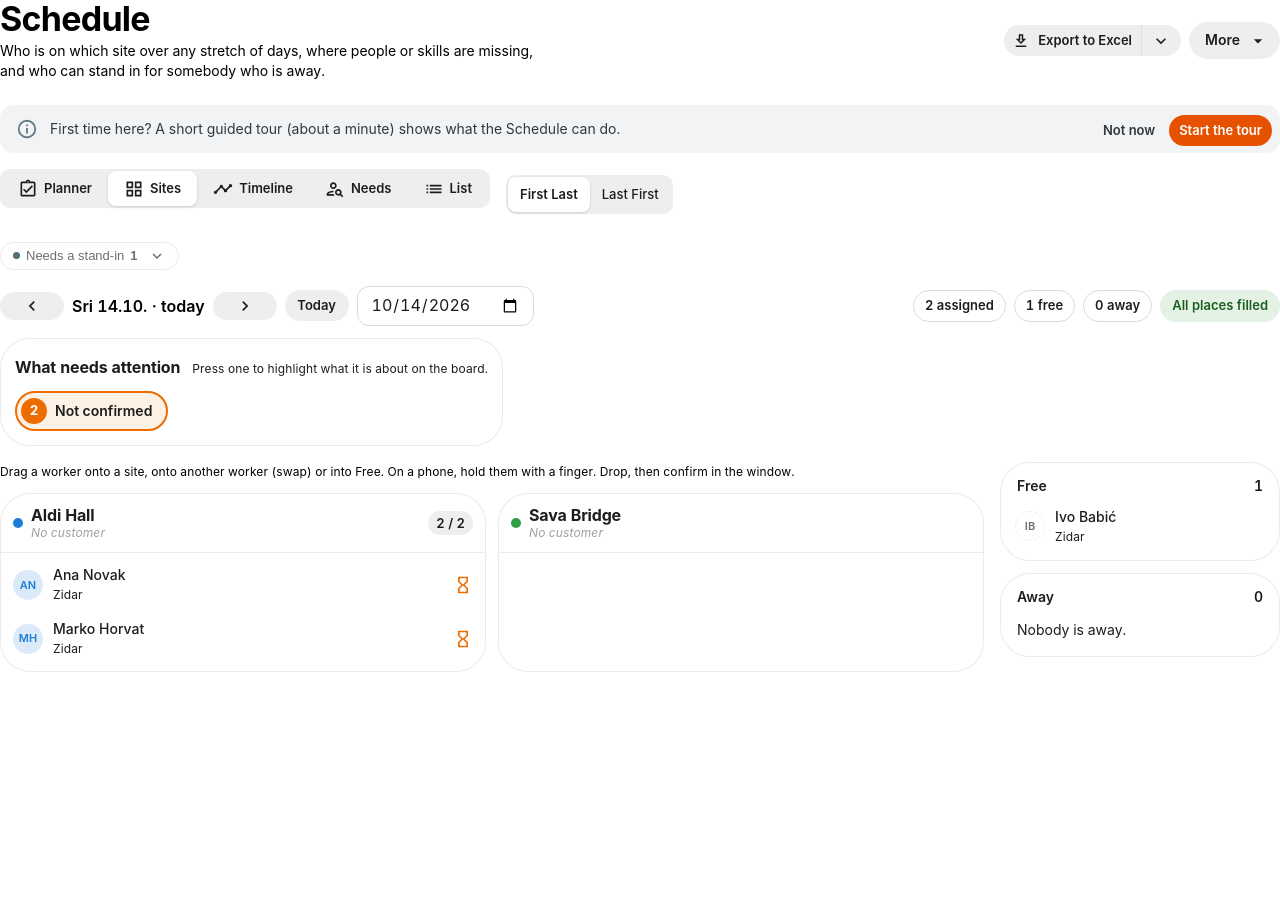
Test: PlanningPage › posts the chosen stand-in for the days of the absence
Click the button "Needs a stand-in 1": (89,256) [0,242,178,270]
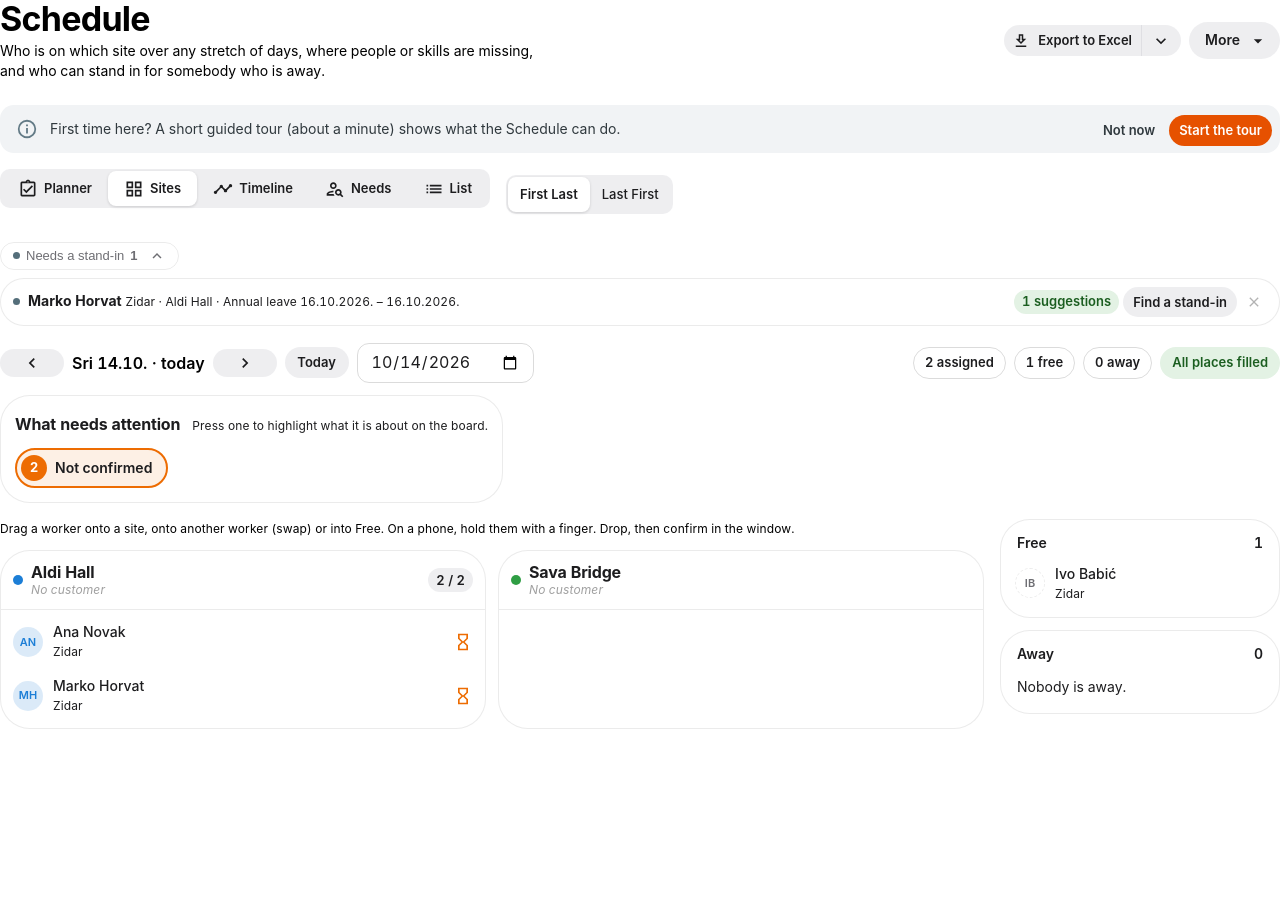
Click the button "Find a stand-in": (1180,302) [1123,287,1237,317]
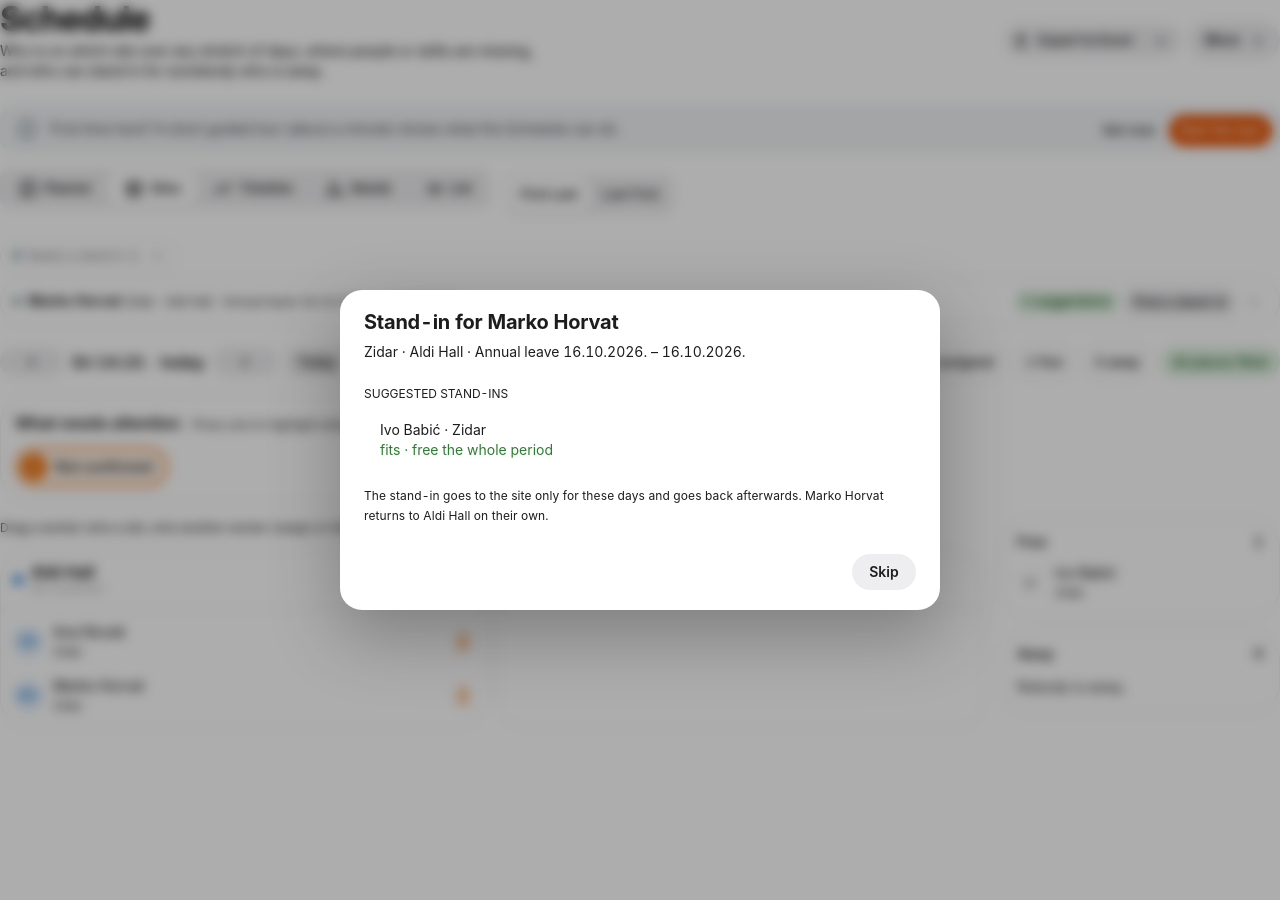
Click the text "Ivo Babić · Zidar": (433,429) [380,421,486,438]
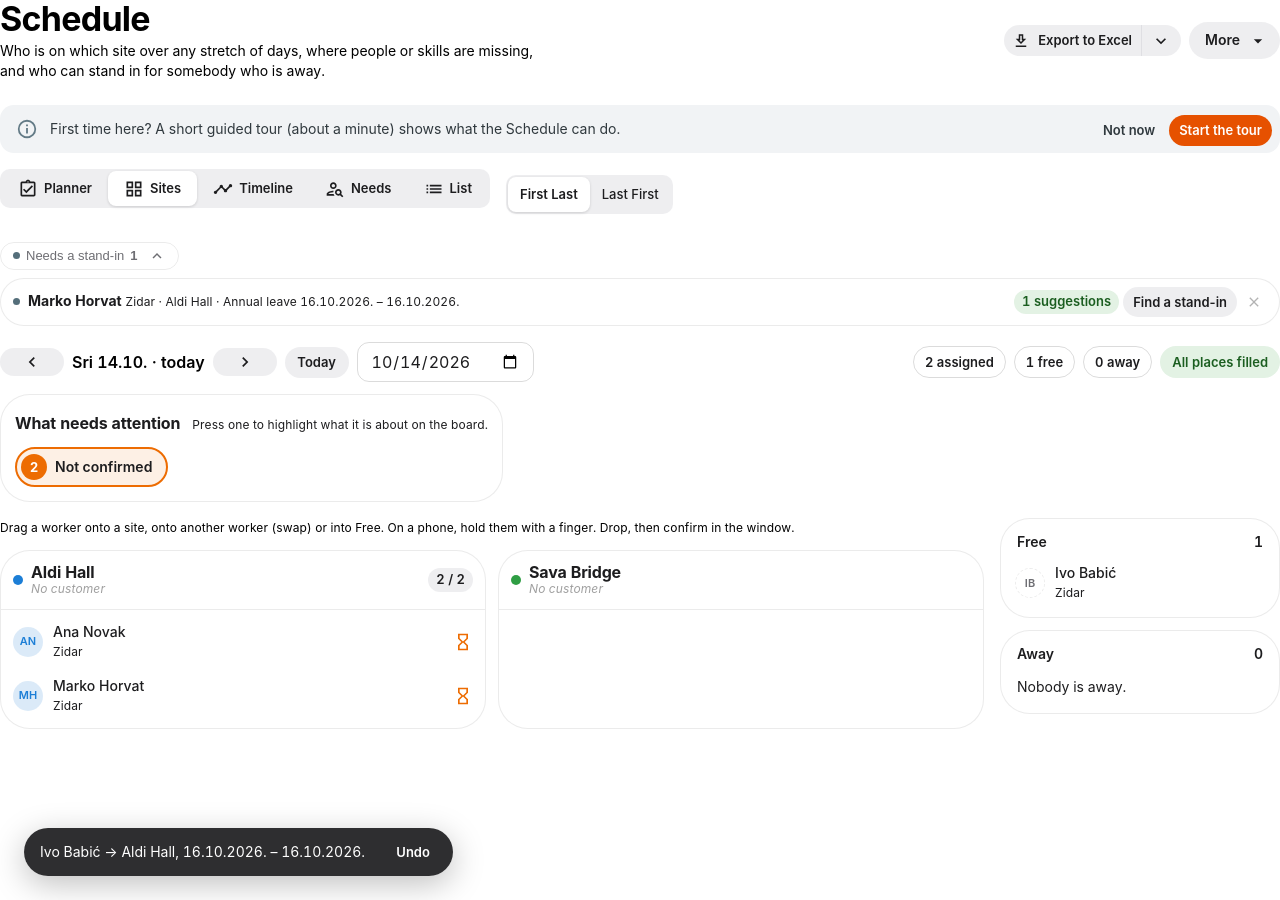
Result: the text "Ivo Babić → Aldi Hall, 16.10.2026. – 16.10.2026." is shown at [40,843,365,860]
